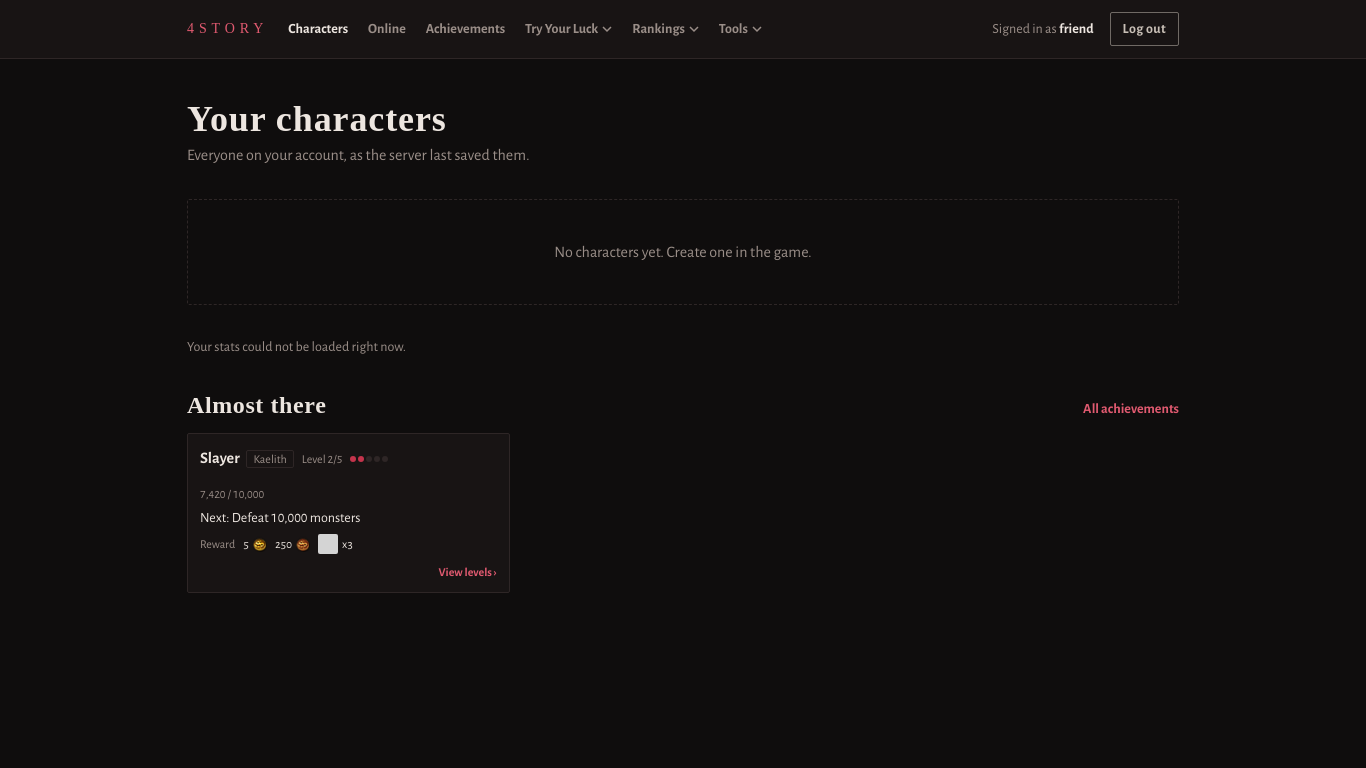
Test case: achievements page › is linked from the header
Click the link "Achievements" at (465, 29), box [426,19,505,39]
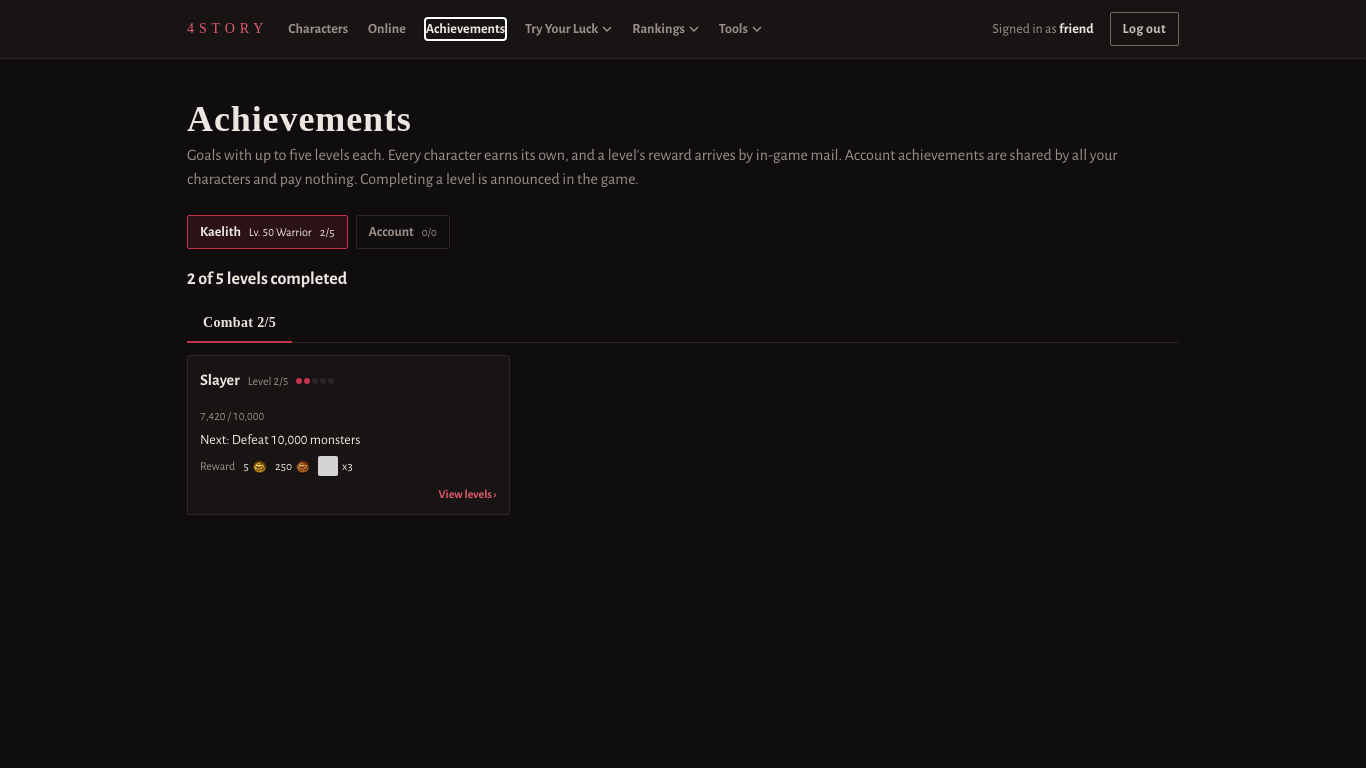
Result: the heading "Achievements" is shown at [187,99,412,139]
